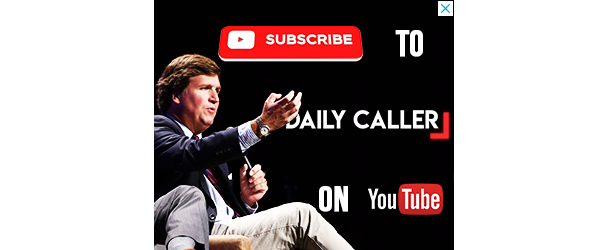fake_button: (212, 19, 370, 76), (431, 0, 458, 20)
